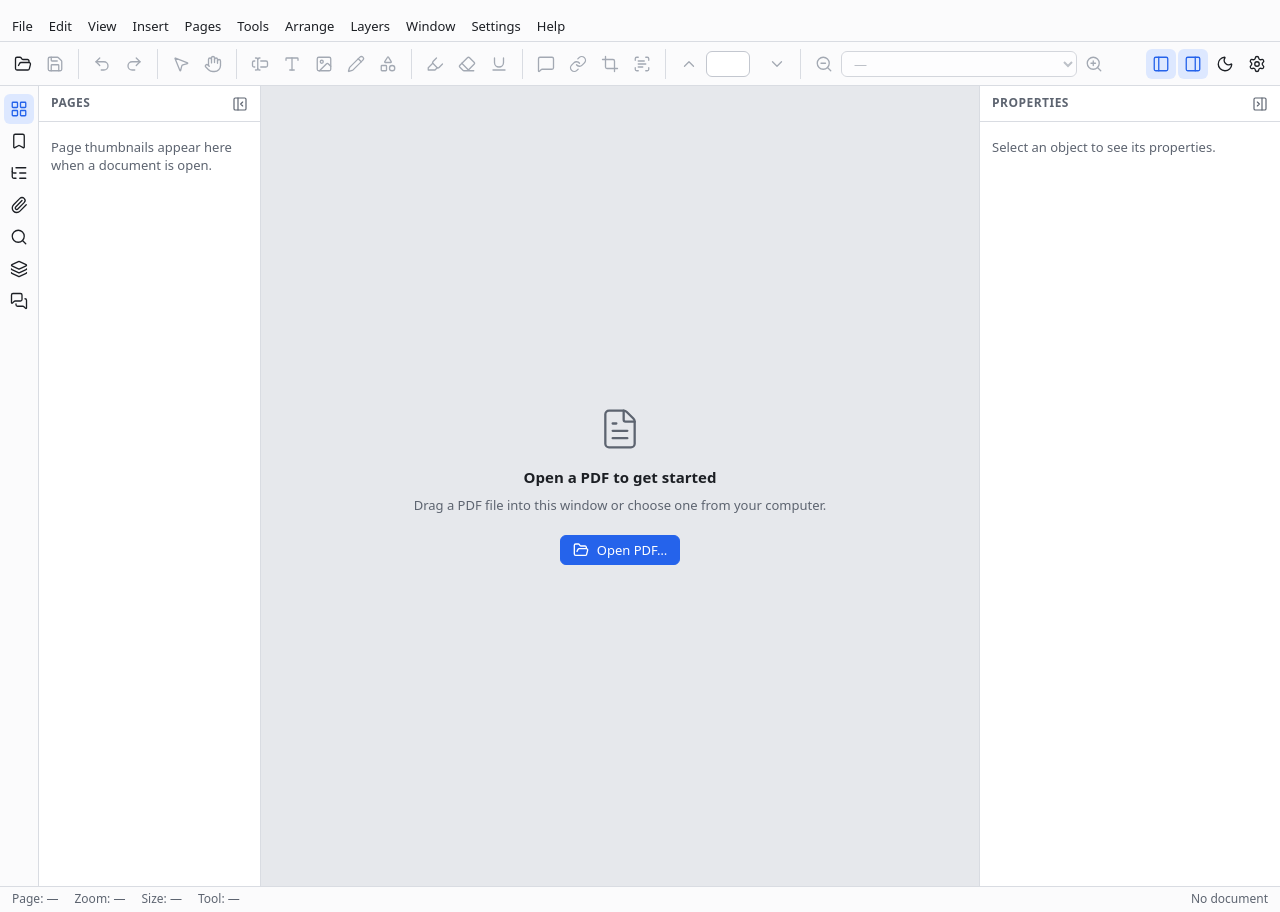
opening documents › toggles the hand tool
What coordinates should you click on to do the following:
click the button named "Open…"
I would click on:
 (23, 64)
Its box is [8,48,38,78].
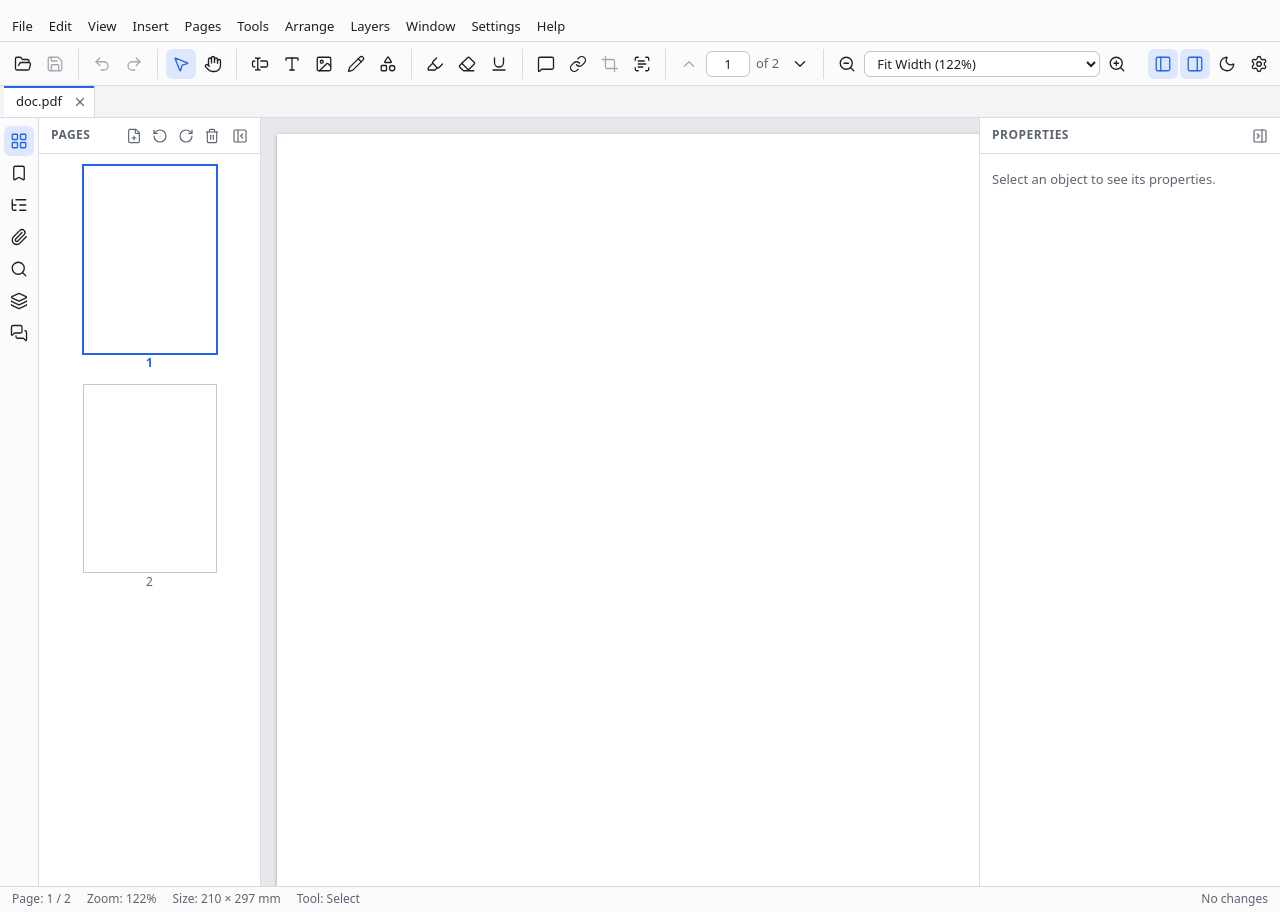
What coordinates should you click on to do the following:
click the button named "Hand"
I would click on:
 (213, 64)
Its box is [198,48,228,78].
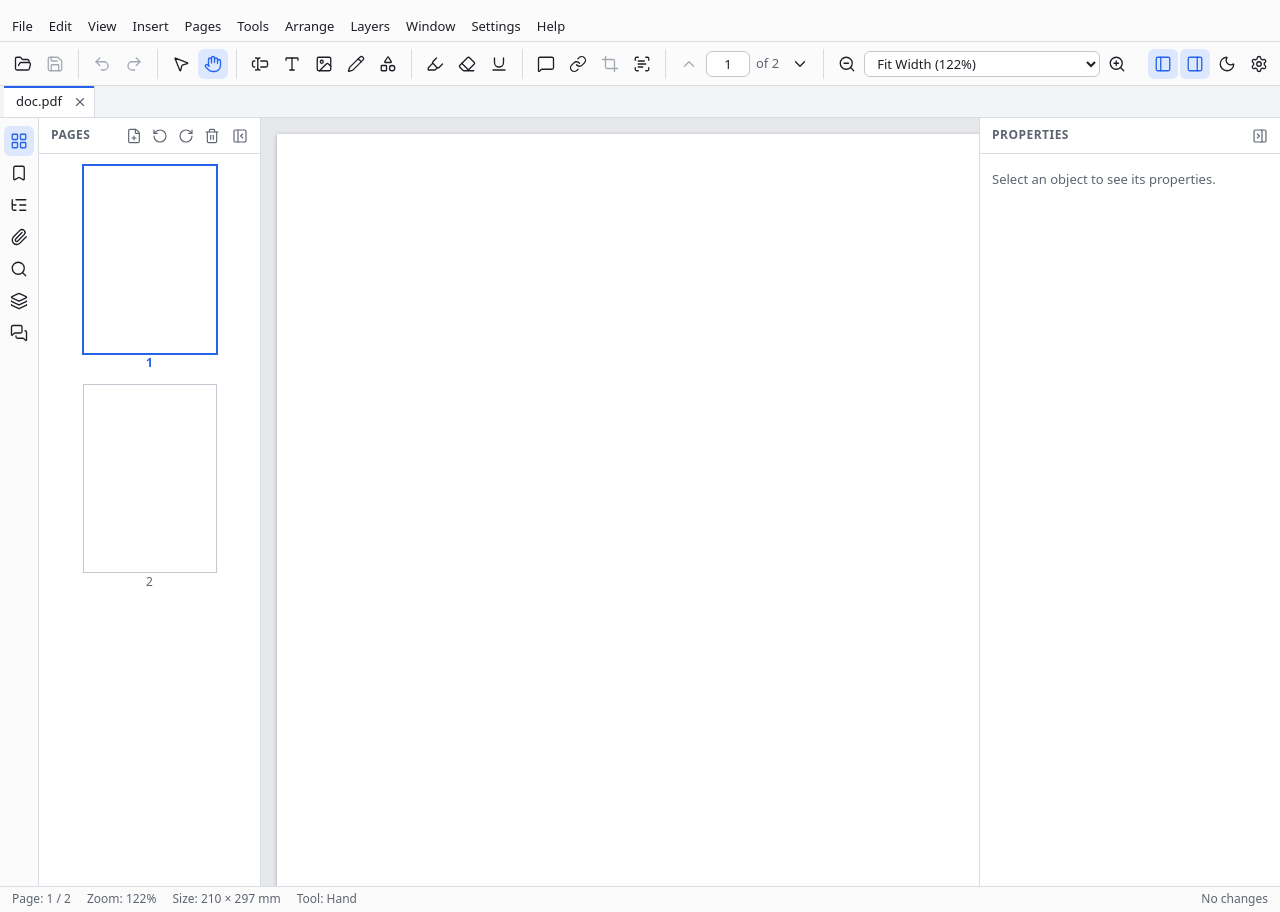
Expected: the element with test id "status-tool" shows "Hand", [326,890,357,907]
